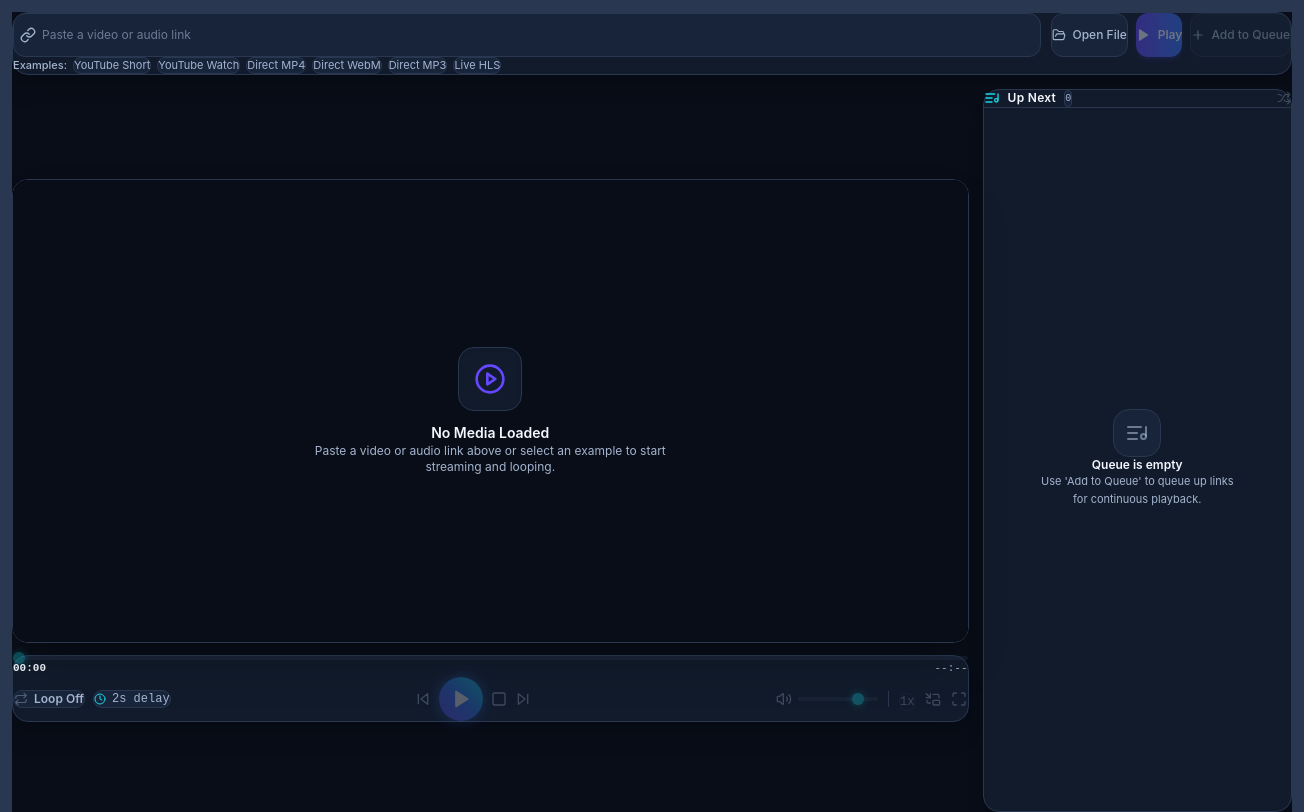
Scenario: MainPlayerView & Home Screen Components › detects YouTube link and displays YOUTUBE badge
The image size is (1304, 812).
Step 1. Type "https://www.youtube.com/shorts/n2YGWiRRxEs" into the field with placeholder "Paste a video or audio link" → (541, 35), box x1=42 y1=27 x2=1040 y2=43
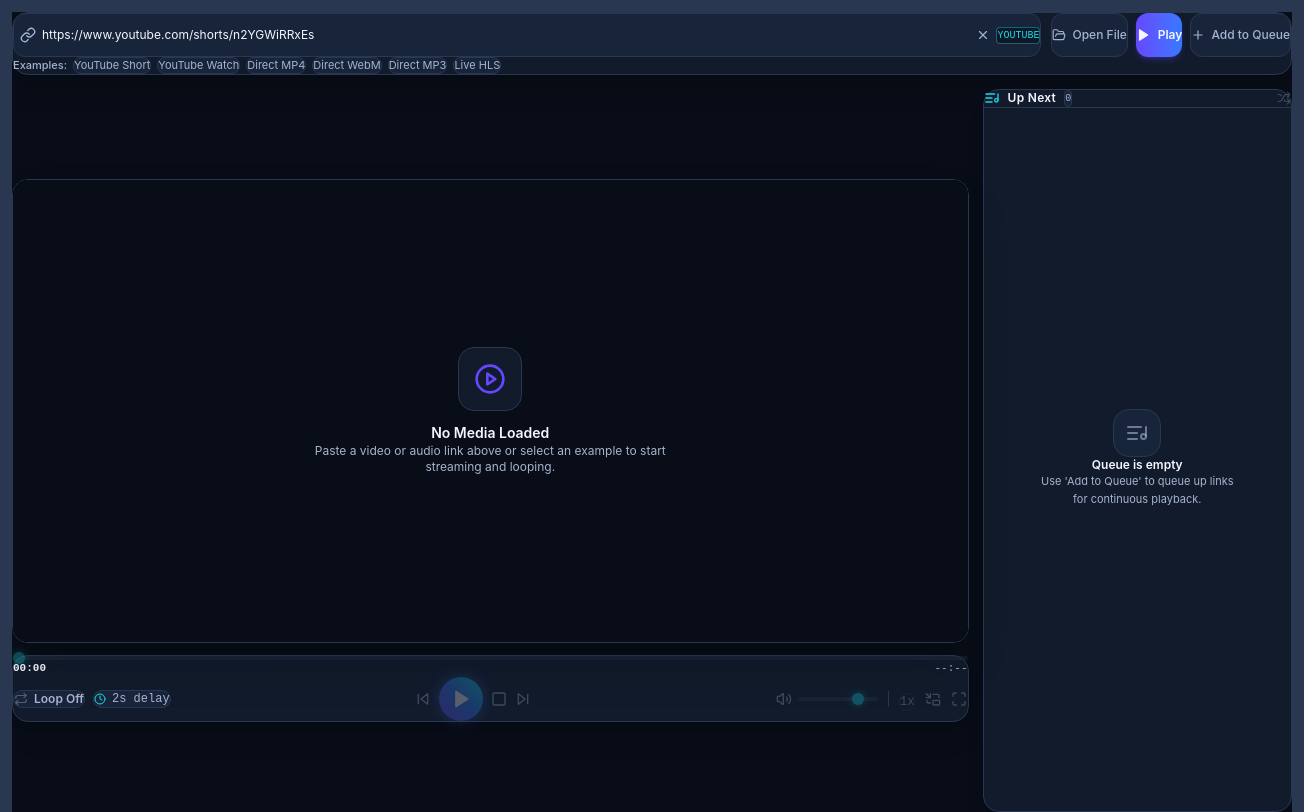
Result: the text "youtube" is shown at x1=996 y1=26 x2=1040 y2=44
Result: the text with class "uppercase" reads "youtube" at x1=998 y1=30 x2=1040 y2=40
